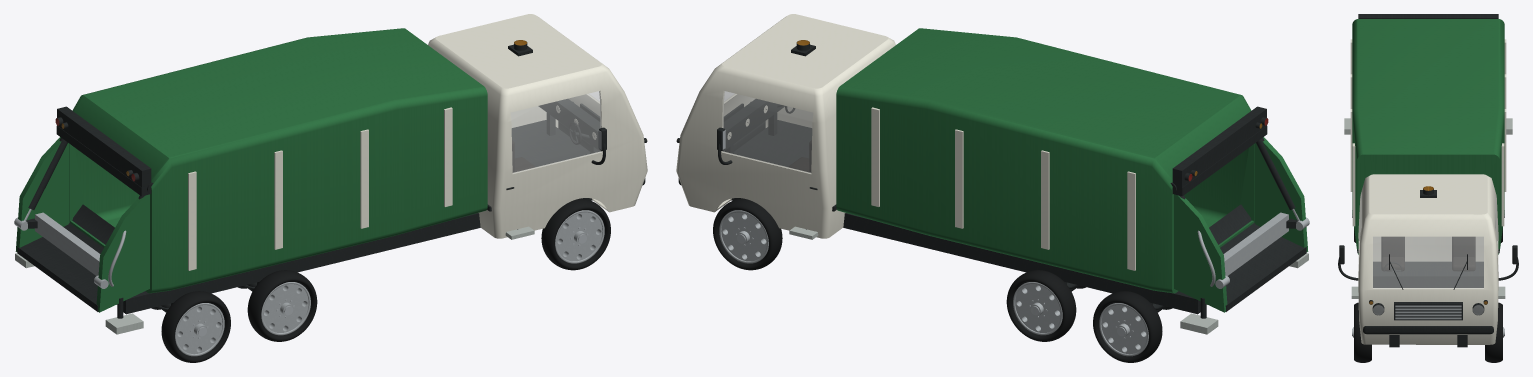
File: refuse-collection-truck.glb
The picture shows the model from 3 angles, left to right: view 1: azimuth 30°, elevation 25°; view 2: azimuth 150°, elevation 25°; view 3: azimuth 270°, elevation 25°; orthographic projection. The views are drawn at different scales.
Visible parts, largest first — view 1: Refuse shaped hollow container with open rear throat, Sculpted hollow cab with wheel arches and window apertures, Cab fitted finite right side glass, Chassis longitudinal boxed rail -1, Rear hopper seated side cheek -1, Finite sloping rear loading hopper floor, Rear hopper seated side cheek 1, Rear lamp seated mounting transom, Cab seated closed floor, Axle 2 wheel -1 rounded tyre carcass, Axle 3 wheel -1 rounded tyre carcass, Axle 1 wheel -1 rounded tyre carcass (+12 smaller); view 2: Refuse shaped hollow container with open rear throat, Sculpted hollow cab with wheel arches and window apertures, Cab fitted finite left side glass, Chassis longitudinal boxed rail 1, Rear hopper seated side cheek 1, Finite sloping rear loading hopper floor, Rear hopper seated side cheek -1, Rear lamp seated mounting transom, Cab seated closed floor, Axle 2 wheel 1 rounded tyre carcass, Axle 3 wheel 1 rounded tyre carcass, Axle 1 wheel 1 rounded tyre carcass (+12 smaller); view 3: Refuse shaped hollow container with open rear throat, Sculpted hollow cab with wheel arches and window apertures, Cab fitted finite windscreen glass, Cab full width instrument bridge, Seated rounded front bumper, Finite seated radiator grille backing, Cab seated closed floor, Rear lamp seated mounting transom, Axle 1 wheel -1 rounded tyre carcass, Axle 1 wheel 1 rounded tyre carcass, Cab upholstered seat back 1, Cab upholstered seat back -1 (+11 smaller).
Part boxes in pixels (box(x1,y1,x2,y2)): Refuse shaped hollow container with open rear throat: box(69, 28, 487, 293); Sculpted hollow cab with wheel arches and window apertures: box(428, 14, 647, 238); Cab fitted finite right side glass: box(511, 91, 601, 173); Chassis longitudinal boxed rail -1: box(123, 198, 592, 314); Rear hopper seated side cheek -1: box(96, 194, 149, 312); Finite sloping rear loading hopper floor: box(17, 204, 114, 311); Rear hopper seated side cheek 1: box(15, 137, 83, 251); Rear lamp seated mounting transom: box(57, 106, 151, 192); Cab seated closed floor: box(487, 120, 590, 211); Axle 2 wheel -1 rounded tyre carcass: box(247, 270, 317, 341); Axle 3 wheel -1 rounded tyre carcass: box(161, 291, 230, 362); Axle 1 wheel -1 rounded tyre carcass: box(541, 198, 610, 270); Refuse shaped hollow container with open rear throat: box(836, 28, 1254, 293); Sculpted hollow cab with wheel arches and window apertures: box(676, 14, 895, 238); Cab fitted finite left side glass: box(722, 91, 812, 173); Chassis longitudinal boxed rail 1: box(731, 198, 1200, 314); Rear hopper seated side cheek 1: box(1174, 194, 1227, 312); Finite sloping rear loading hopper floor: box(1209, 204, 1306, 311); Rear hopper seated side cheek -1: box(1240, 137, 1308, 251); Rear lamp seated mounting transom: box(1172, 106, 1266, 191); Cab seated closed floor: box(733, 120, 836, 211); Axle 2 wheel 1 rounded tyre carcass: box(1006, 270, 1076, 341); Axle 3 wheel 1 rounded tyre carcass: box(1093, 291, 1162, 362); Axle 1 wheel 1 rounded tyre carcass: box(713, 198, 782, 270); Refuse shaped hollow container with open rear throat: box(1352, 19, 1504, 254); Sculpted hollow cab with wheel arches and window apertures: box(1358, 174, 1498, 344); Cab fitted finite windscreen glass: box(1373, 237, 1483, 288); Cab full width instrument bridge: box(1373, 271, 1483, 287); Seated rounded front bumper: box(1363, 326, 1493, 334); Finite seated radiator grille backing: box(1394, 302, 1462, 320); Cab seated closed floor: box(1373, 261, 1483, 271); Rear lamp seated mounting transom: box(1358, 14, 1498, 18); Axle 1 wheel -1 rounded tyre carcass: box(1354, 302, 1371, 362); Axle 1 wheel 1 rounded tyre carcass: box(1485, 302, 1502, 362); Cab upholstered seat back 1: box(1452, 236, 1475, 257); Cab upholstered seat back -1: box(1381, 236, 1404, 257).
Size of the model in its own units: 8.68 by 3.22 by 2.97.
Materials: 13 (13 with a texture image).
